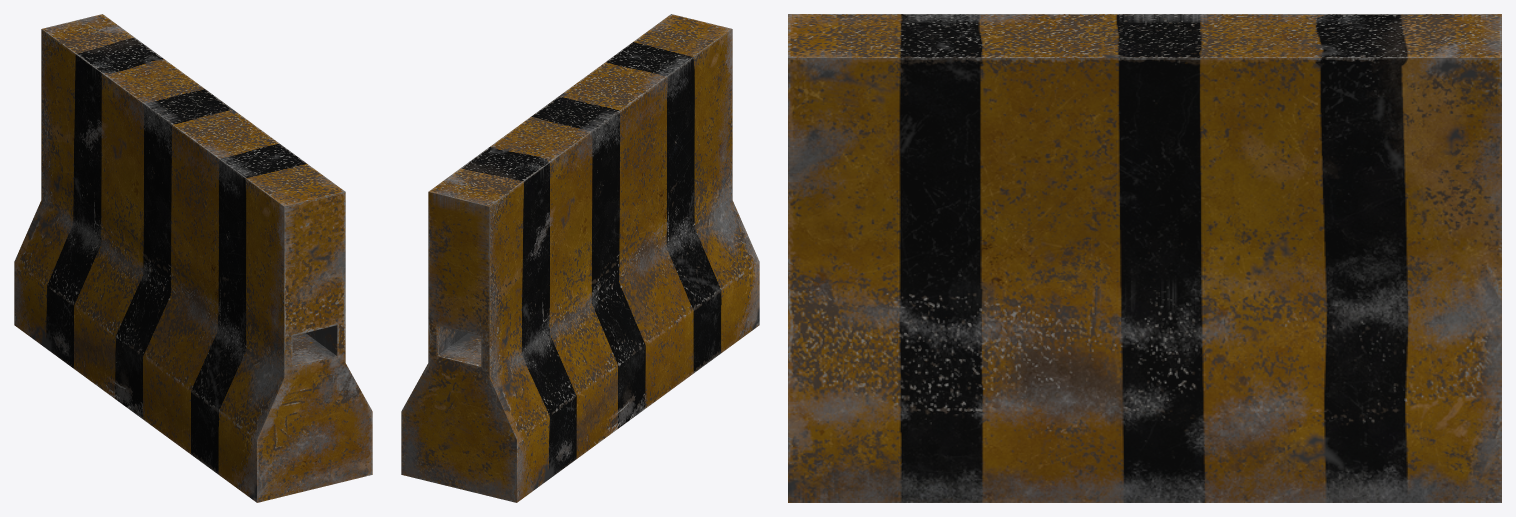
The model's file is barricade_low_polly.glb.
The picture shows the model from 3 angles, left to right: view 1: azimuth 30°, elevation 25°; view 2: azimuth 150°, elevation 25°; view 3: azimuth 270°, elevation 25°; orthographic projection. The views are drawn at different scales.
Visible parts, largest first — view 1: pCube1; view 2: pCube1; view 3: pCube1.
Part boxes in pixels (bbox=[...]): pCube1: bbox=[14, 14, 372, 502]; pCube1: bbox=[401, 14, 759, 502]; pCube1: bbox=[788, 14, 1501, 502].
Size of the model in its own units: 54.99 by 132 by 200.
Materials: 1 (1 with a texture image).
